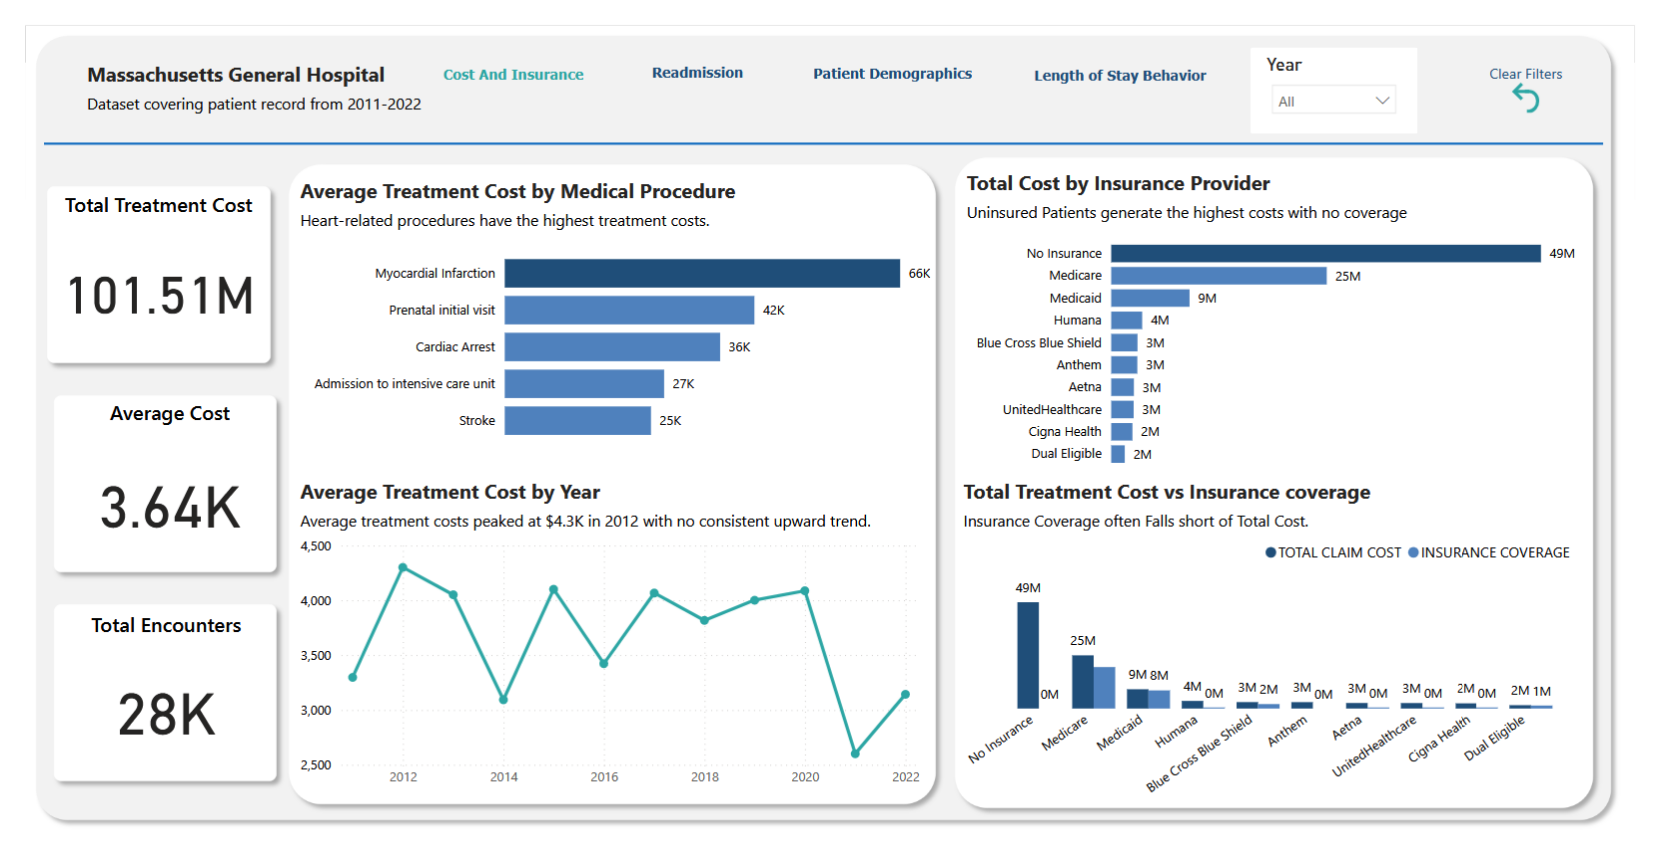

Layout of this report page (visuals, bound fields, positions):
{"tool":"powerbi","page":{"name":"COST AND INSURANCE","canvas":[1405,750],"ordinal":1},"visuals":[{"type":"shape","box":[14,0,1374.5,749.6],"z":0},{"type":"textbox","title":"Massachusetts General Hospital","box":[56.7,36.2,315,77.2],"z":1000},{"type":"shape","box":[37.8,105.5,1326.1,14.2],"z":2000},{"type":"actionButton","box":[377.2,35.4,122.7,40.4],"z":3000},{"type":"actionButton","box":[500.2,35.8,149.6,40.5],"z":4000},{"type":"actionButton","box":[649.9,35.8,179.2,40.5],"z":5000},{"type":"actionButton","box":[829.1,35.8,219.7,40.5],"z":6000},{"type":"shape","box":[37.4,127.8,659.2,598.4],"z":7000},{"type":"shape","box":[696.6,127.8,676.3,598.4],"z":8000},{"type":"clusteredColumnChart","fields":{"Category":["payers.NAME"],"Y":["Sum(encounters.TOTAL_CLAIM_COST)","Sum(encounters.PAYER_COVERAGE)"]},"box":[713.7,257.1,649.9,462.8],"z":9000},{"type":"shape","box":[1063.2,21.1,290.1,84.3],"z":11000},{"type":"slicer","title":"INSURANCE","fields":{"Values":["payers.NAME"]},"box":[1063.2,24.3,150.7,77.8],"z":12000},{"type":"slicer","title":"PROCEDURE","fields":{"Values":["procedures.DESCRIPTION"]},"box":[1217.2,24.3,136.1,77.8],"z":13000},{"type":"barChart","fields":{"Category":["encounters.DESCRIPTION"],"Y":["encounters.Avg Cost"]},"box":[63.9,233.8,586,469.1],"z":14000},{"type":"textbox","box":[63.2,152.4,521.9,42.1],"z":15000},{"type":"textbox","box":[722.9,152.4,624,58.3],"z":16000},{"type":"textbox","box":[722.9,181.5,640.2,76.2],"z":17000},{"type":"textbox","box":[63.2,181.5,586.7,60],"z":18000}]}

Visuals, with their boxes on the page's 1405x750 design canvas (x1, y1, x2, y2). These are canvas units, not pixel positions in the 1657x848 screenshot, which may show the page scaled, cropped or inside an application window:
shape: bbox(14, 0, 1388, 750)
"Massachusetts General Hospital" textbox: bbox(57, 36, 372, 113)
shape: bbox(38, 106, 1364, 120)
actionButton: bbox(377, 35, 500, 76)
actionButton: bbox(500, 36, 650, 76)
actionButton: bbox(650, 36, 829, 76)
actionButton: bbox(829, 36, 1049, 76)
shape: bbox(37, 128, 697, 726)
shape: bbox(697, 128, 1373, 726)
clusteredColumnChart - payers.NAME x Sum(encounters.TOTAL_CLAIM_COST): bbox(714, 257, 1364, 720)
shape: bbox(1063, 21, 1353, 105)
"INSURANCE" slicer: bbox(1063, 24, 1214, 102)
"PROCEDURE" slicer: bbox(1217, 24, 1353, 102)
barChart - encounters.DESCRIPTION x encounters.Avg Cost: bbox(64, 234, 650, 703)
textbox: bbox(63, 152, 585, 194)
textbox: bbox(723, 152, 1347, 211)
textbox: bbox(723, 182, 1363, 258)
textbox: bbox(63, 182, 650, 242)
